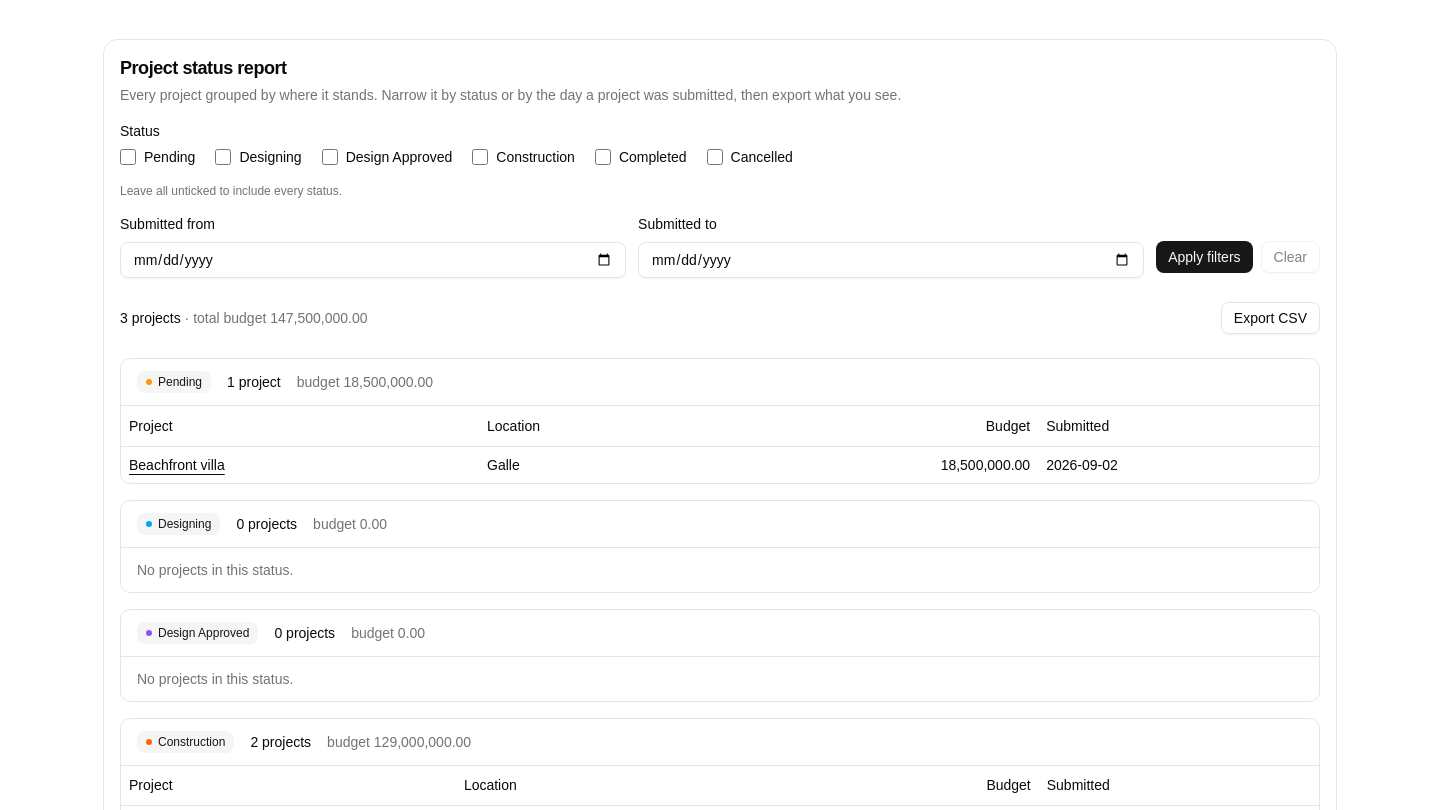
ProjectStatusReportPage — filtering (AC-2) › says so when nothing matches, rather than showing a report of empty groups as if it were the pipeline
Expected: the element with test id "group-Pending" is shown, [120, 358, 1320, 484]
Type "2030-01-01" into the date field labelled "Submitted from" at (373, 260), box [120, 242, 626, 278]
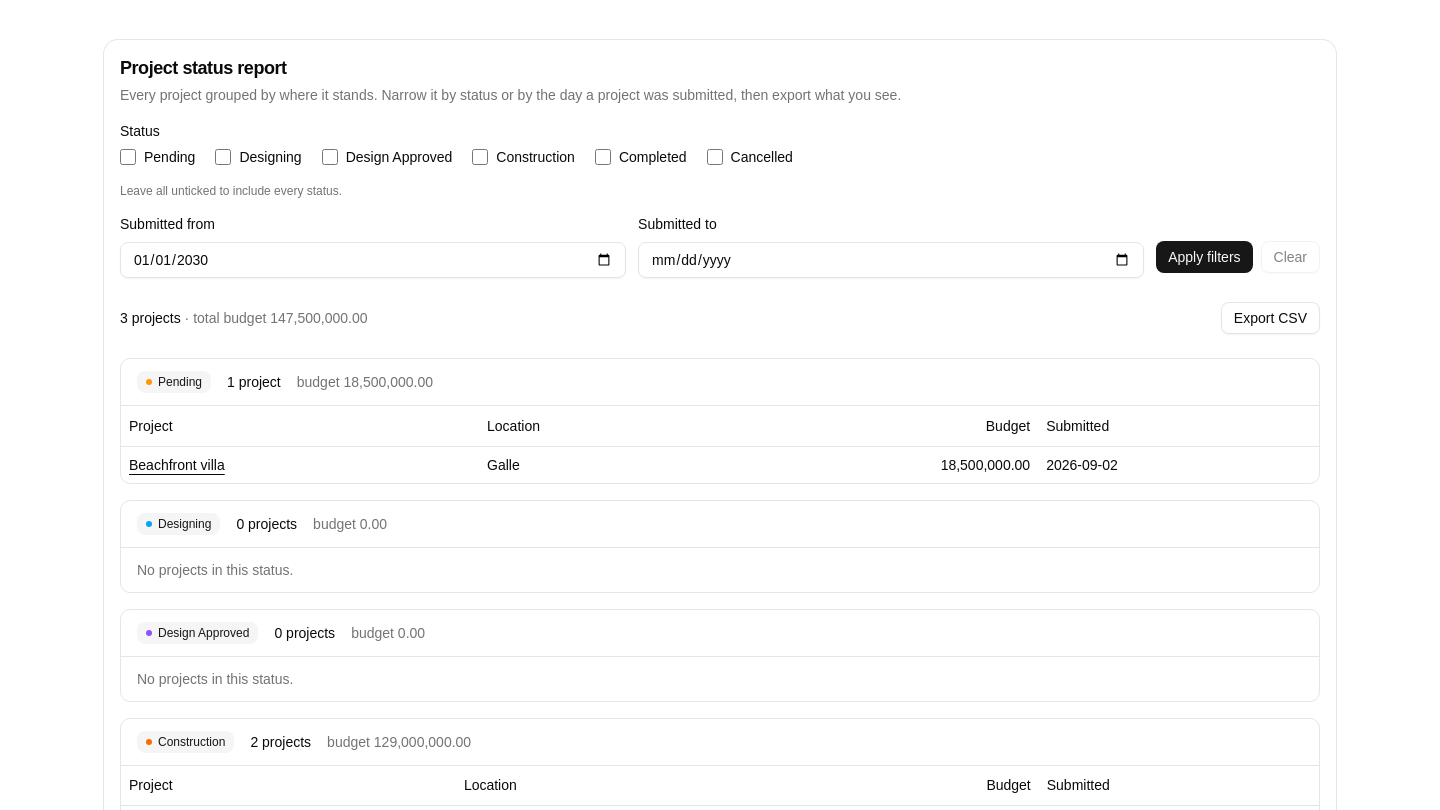
Click the button "Apply filters" at (1204, 257), box [1156, 241, 1253, 273]
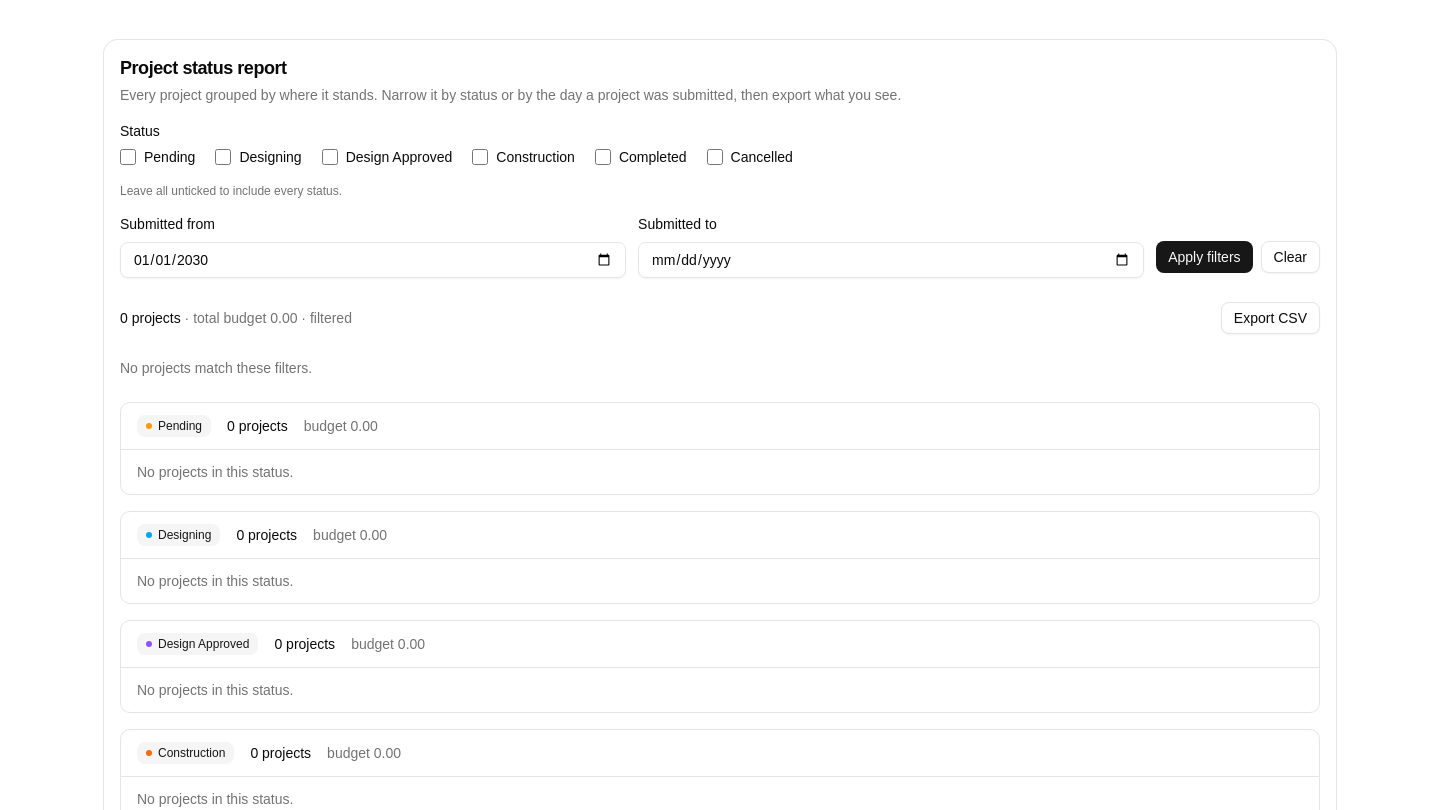
Now the text "No projects match these filters." is shown, box [120, 360, 312, 376]
